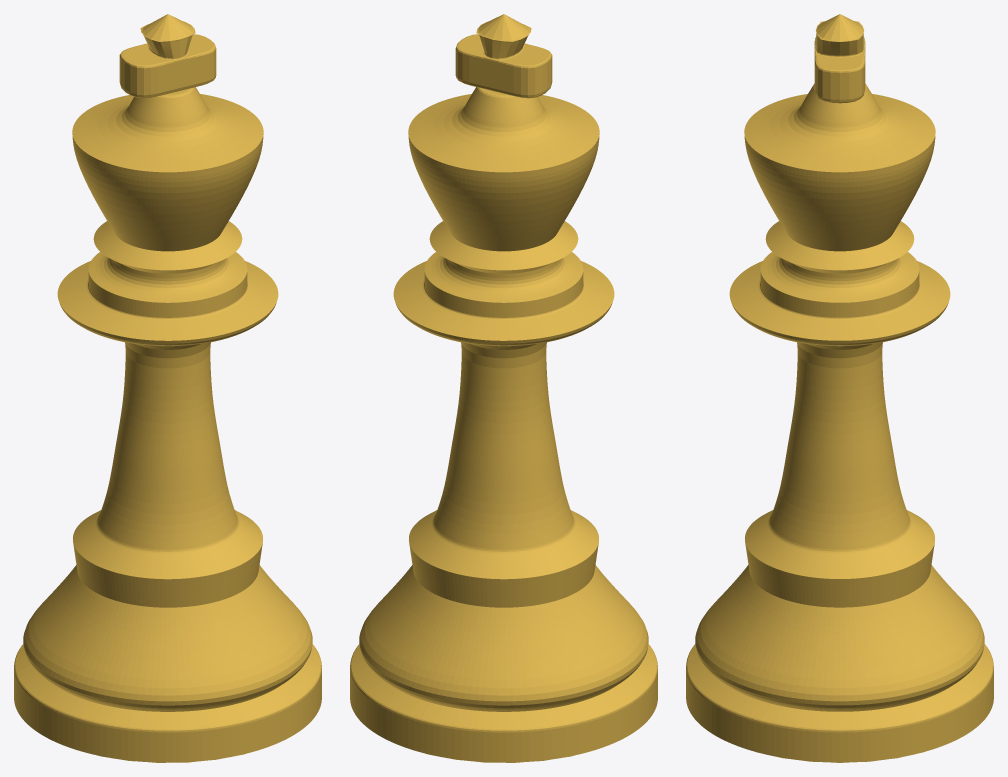
The model's file is gold_King.fbx.
3 views of the same model, side by side, from view 1: azimuth 30°, elevation 25°; view 2: azimuth 150°, elevation 25°; view 3: azimuth 270°, elevation 25° (orthographic).
Parts seen in each view (by area): view 1: Cylinder.001; view 2: Cylinder.001; view 3: Cylinder.001.
Part boxes in pixels (x1,y1,x2,y2): Cylinder.001: (14, 14, 321, 762); Cylinder.001: (350, 14, 657, 762); Cylinder.001: (686, 14, 993, 762).
Bounding box in the file's own units: 4.44 × 10.92 × 4.44.
